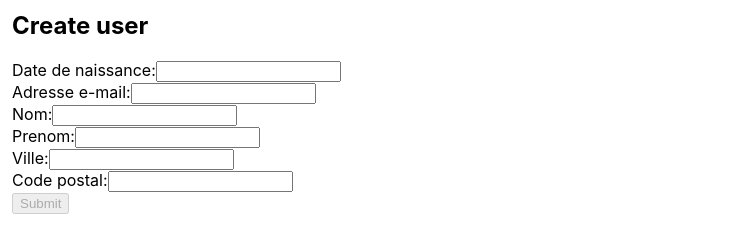
Scenario: Form component › displays error messages for invalid data
Type "invalid-date" into the field labelled "Date de naissance:". click: (248, 71)
box: [156,61,341,82]
Type "invalid-email" into the field labelled "Adresse e-mail:". click: (223, 93)
box: [131,83,316,104]
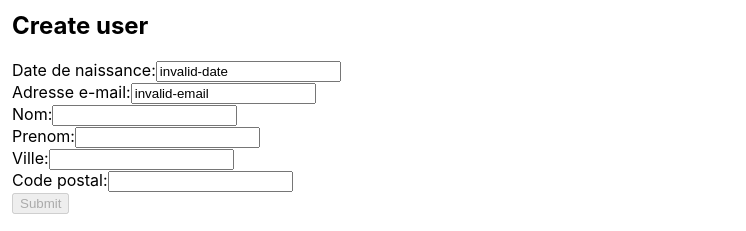
Type "123" into the field labelled "Nom:". click: (145, 115)
box: [52,105,237,126]
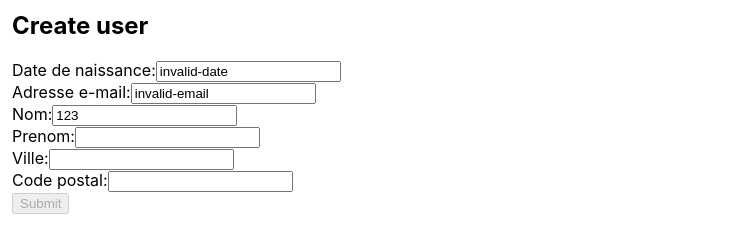
Type "456" into the field labelled "Prenom:". click: (168, 137)
box: [75,127,260,148]
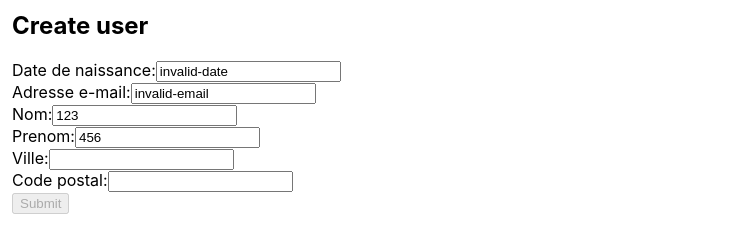
Type "789" into the field labelled "Ville:". click: (141, 159)
box: [49,149,234,170]
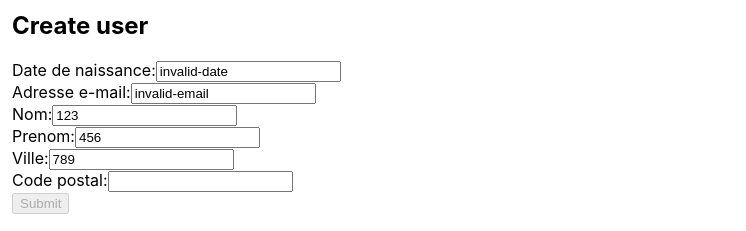
Type "invalid-code" into the field labelled "Code postal:". click: (200, 181)
box: [108,171,292,192]
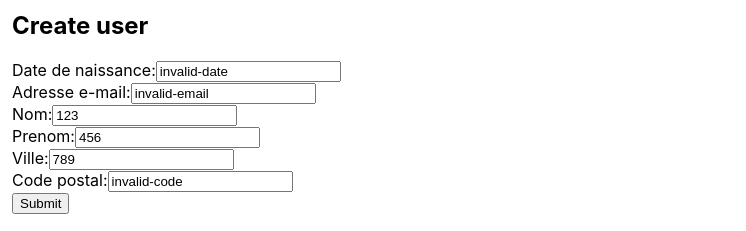
Click the button "Submit". click: click(41, 203)
box: [12,193,70,214]
(page scrolled)
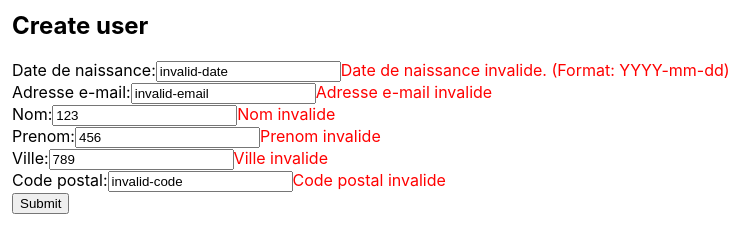
Check: the text "Date de naissance invalide. (Format: YYYY-mm-dd)" is shown, box [341,60,730,80]
Check: the text "Adresse e-mail invalide" is shown, box [316,82,492,102]
Check: the text "Nom invalide" is shown, box [237,104,335,124]
